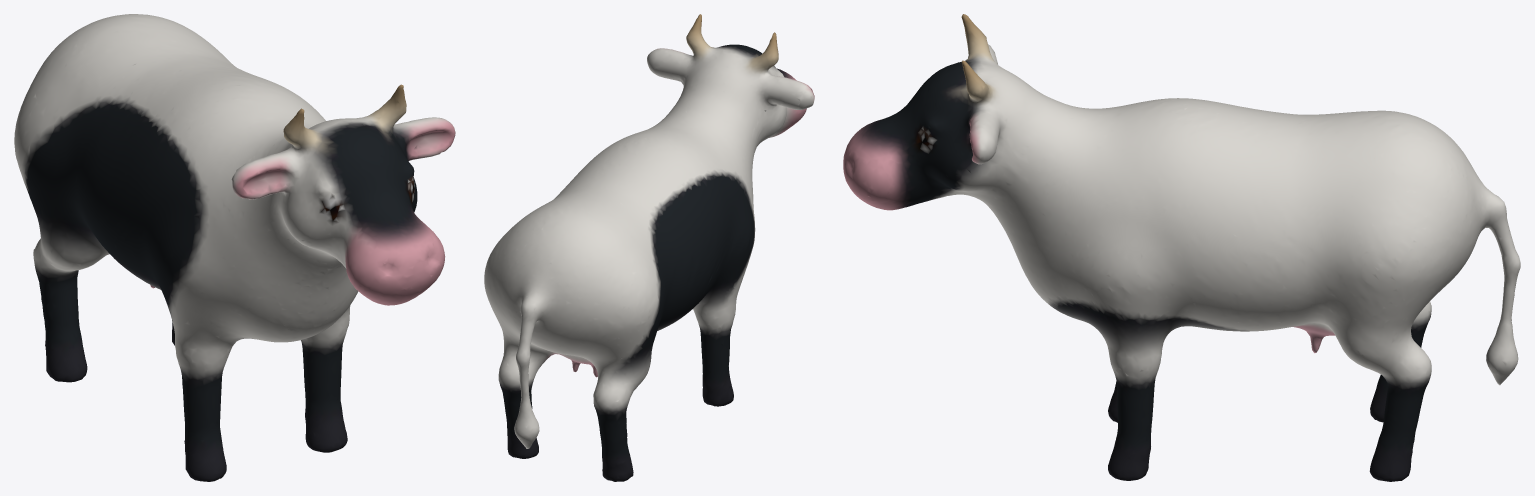
Rendered from hayvan_inek.glb.
3 views of the same model, side by side, from view 1: azimuth 30°, elevation 25°; view 2: azimuth 150°, elevation 25°; view 3: azimuth 270°, elevation 25° (orthographic). The views are drawn at different scales.
Visible parts, largest first — view 1: geometry_0; view 2: geometry_0; view 3: geometry_0.
Boxes of the visible parts, bbox=[...] form: geometry_0: bbox=[14, 14, 455, 481]; geometry_0: bbox=[484, 14, 814, 481]; geometry_0: bbox=[843, 14, 1520, 481].
Size of the model in its own units: 0.1435 by 0.2638 by 0.3954.
